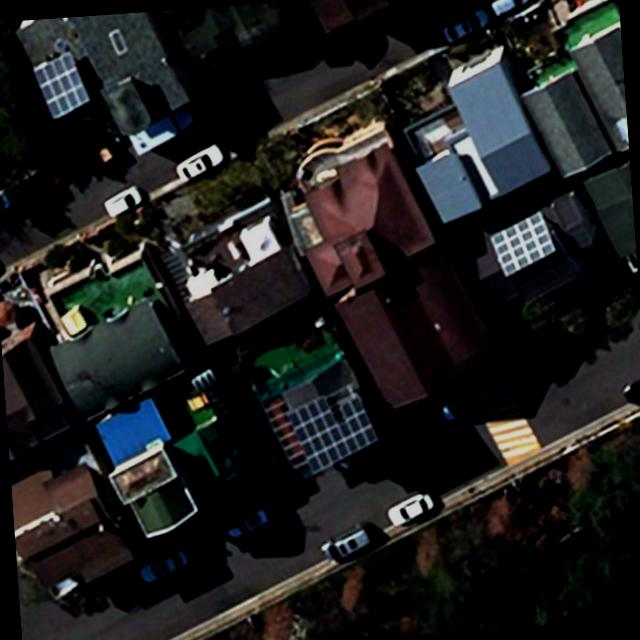solar: (278, 380, 386, 478), (484, 203, 558, 280), (29, 48, 92, 124)
